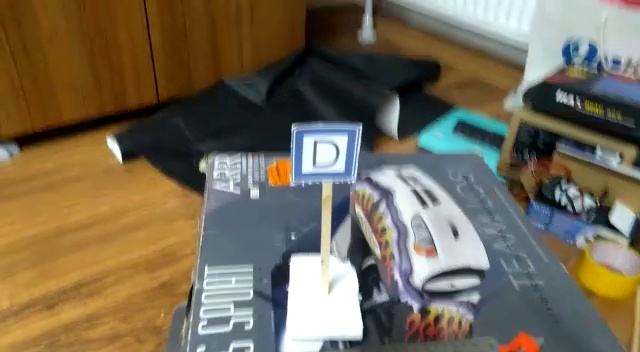durak: (291, 126, 360, 180)
